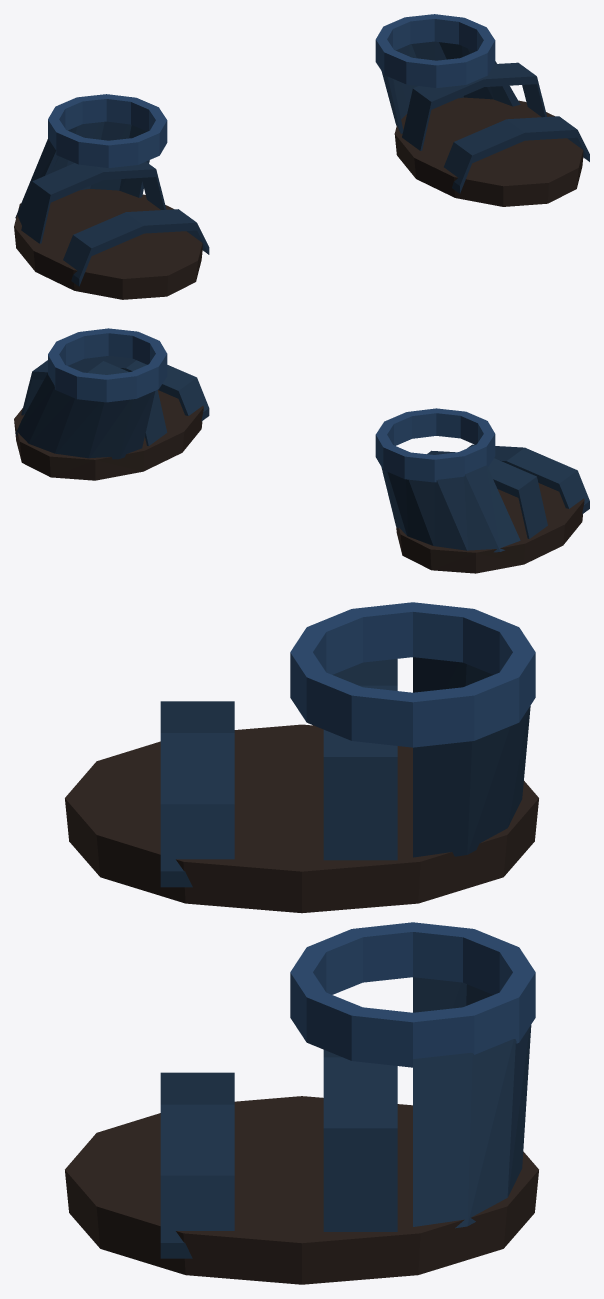
The model's file is cloth_feet-male.glb.
3 views of the same model, one above another, from view 1: azimuth 30°, elevation 25°; view 2: azimuth 150°, elevation 25°; view 3: azimuth 270°, elevation 25° (orthographic). The views are drawn at different scales.
Parts seen in each view (by area): view 1: Sandal leather sole -1, Sandal leather sole 1, Sandal ankle strap 1, Sandal ankle strap -1, Sandal instep strap -1, Sandal toe strap -1, Sandal toe strap 1, Sandal instep strap 1, Sandal heel sling -1, Sandal heel sling 1; view 2: Sandal heel sling -1, Sandal heel sling 1, Sandal ankle strap 1, Sandal ankle strap -1, Sandal leather sole -1, Sandal leather sole 1, Sandal toe strap -1, Sandal instep strap -1, Sandal toe strap 1, Sandal instep strap 1; view 3: Sandal leather sole 1, Sandal leather sole -1, Sandal ankle strap -1, Sandal ankle strap 1, Sandal heel sling 1, Sandal heel sling -1, Sandal instep strap 1, Sandal toe strap -1, Sandal toe strap 1, Sandal instep strap -1.
Part boxes in pixels (x1=…): Sandal leather sole -1: x1=14, y1=189, x2=202, y2=299; Sandal leather sole 1: x1=394, y1=97, x2=583, y2=206; Sandal ankle strap 1: x1=375, y1=14, x2=495, y2=87; Sandal ankle strap -1: x1=48, y1=94, x2=167, y2=167; Sandal instep strap -1: x1=21, y1=161, x2=166, y2=243; Sandal toe strap -1: x1=63, y1=209, x2=209, y2=286; Sandal toe strap 1: x1=444, y1=116, x2=589, y2=193; Sandal instep strap 1: x1=402, y1=62, x2=546, y2=150; Sandal heel sling -1: x1=15, y1=121, x2=149, y2=225; Sandal heel sling 1: x1=381, y1=41, x2=520, y2=133; Sandal heel sling -1: x1=381, y1=465, x2=520, y2=552; Sandal heel sling 1: x1=15, y1=373, x2=155, y2=459; Sandal ankle strap 1: x1=48, y1=328, x2=167, y2=402; Sandal ankle strap -1: x1=375, y1=408, x2=495, y2=482; Sandal leather sole -1: x1=396, y1=483, x2=584, y2=573; Sandal leather sole 1: x1=14, y1=390, x2=203, y2=480; Sandal toe strap -1: x1=467, y1=444, x2=589, y2=514; Sandal instep strap -1: x1=427, y1=450, x2=547, y2=538; Sandal toe strap 1: x1=83, y1=356, x2=209, y2=421; Sandal instep strap 1: x1=21, y1=359, x2=167, y2=446; Sandal leather sole 1: x1=65, y1=1096, x2=538, y2=1284; Sandal leather sole -1: x1=65, y1=724, x2=538, y2=913; Sandal ankle strap -1: x1=290, y1=602, x2=535, y2=747; Sandal ankle strap 1: x1=290, y1=922, x2=535, y2=1067; Sandal heel sling 1: x1=413, y1=977, x2=531, y2=1228; Sandal heel sling -1: x1=413, y1=657, x2=530, y2=857; Sandal instep strap 1: x1=323, y1=1050, x2=397, y2=1231; Sandal toe strap -1: x1=160, y1=701, x2=234, y2=887; Sandal toe strap 1: x1=160, y1=1072, x2=234, y2=1258; Sandal instep strap -1: x1=323, y1=659, x2=397, y2=860.
Size of the model in its own units: 2.82 by 0.545 by 1.09.
